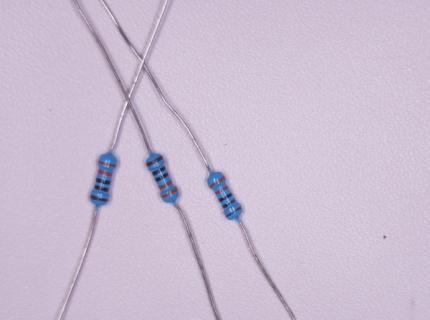Black band: (222, 199, 236, 209), (155, 172, 169, 182), (152, 166, 166, 176), (94, 184, 110, 192), (96, 177, 111, 185), (219, 193, 232, 202)
Brown band: (147, 156, 163, 167), (226, 206, 241, 217), (91, 194, 108, 201)
Orange band: (209, 176, 225, 188), (162, 188, 177, 198), (159, 180, 172, 190), (215, 186, 228, 195), (99, 161, 116, 167), (98, 169, 112, 176)
